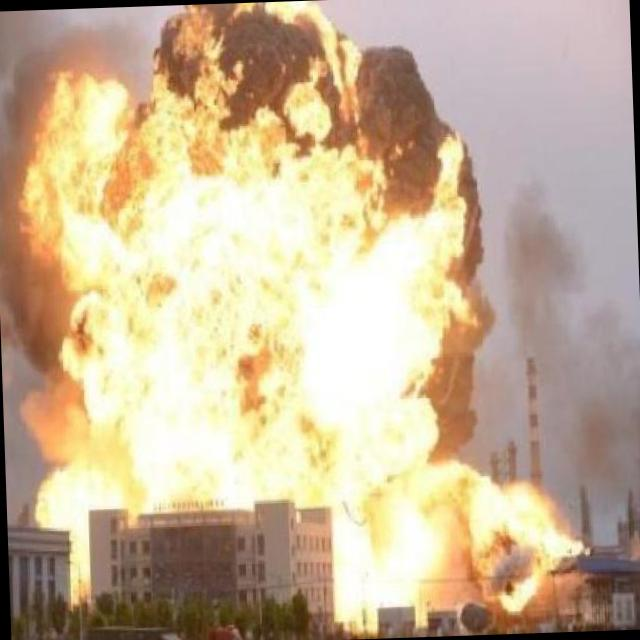Fire_Dangerous: (10, 0, 579, 627)
